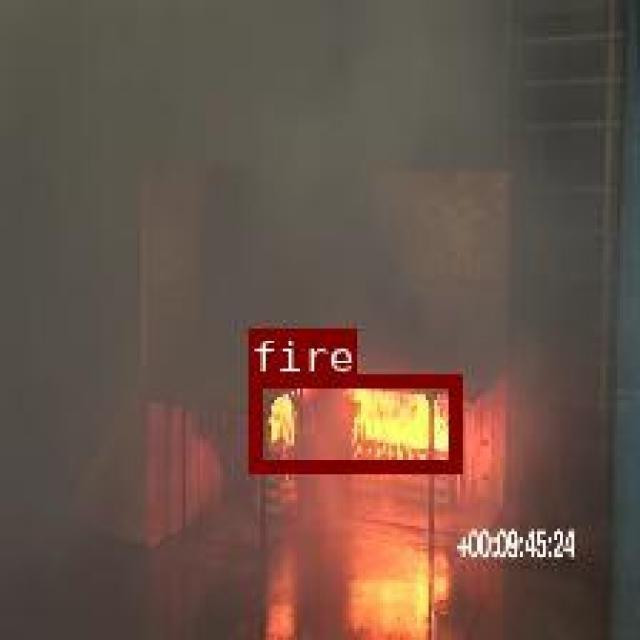fire: (247, 373, 459, 470)
